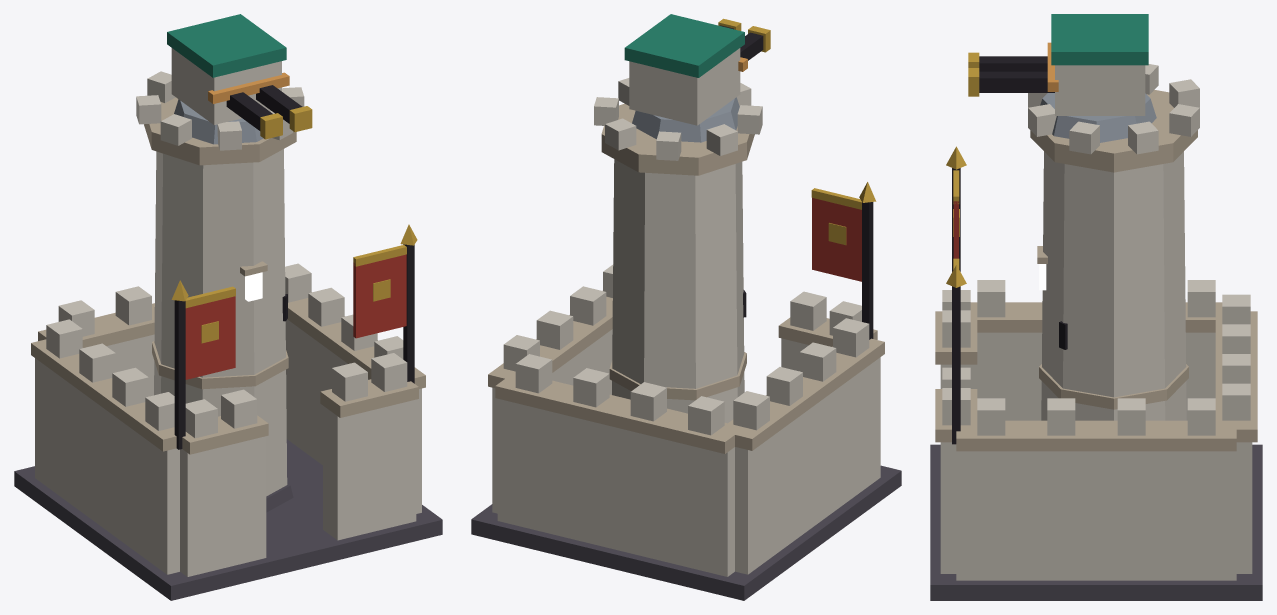
Rendered from outpost_t4.glb.
3 views of the same model, side by side, from view 1: azimuth 30°, elevation 25°; view 2: azimuth 150°, elevation 25°; view 3: azimuth 270°, elevation 25° (orthographic). The views are drawn at different scales.
Visible parts, largest first — view 1: body, part_turret; view 2: body, part_turret; view 3: body, part_turret.
Boxes of the visible parts, bbox=[...] form: body: bbox=[14, 71, 442, 600]; part_turret: bbox=[167, 14, 312, 144]; body: bbox=[471, 78, 901, 600]; part_turret: bbox=[624, 14, 770, 142]; body: bbox=[930, 64, 1262, 600]; part_turret: bbox=[968, 14, 1156, 142].
Size of the model in its own units: 1.9 by 3.14 by 1.9.
